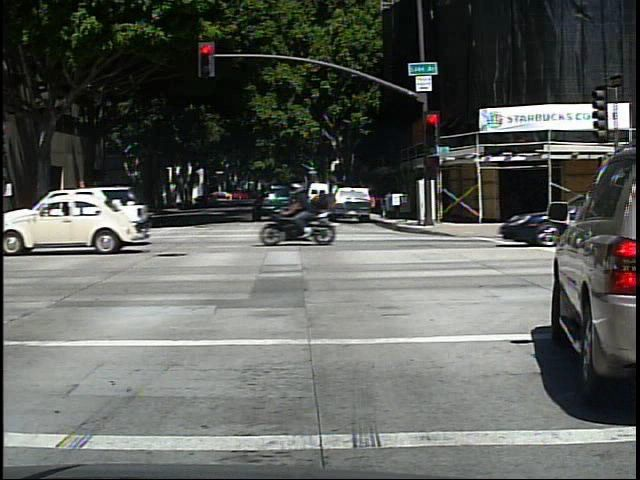person: (297, 178, 335, 239), (61, 190, 72, 224)
